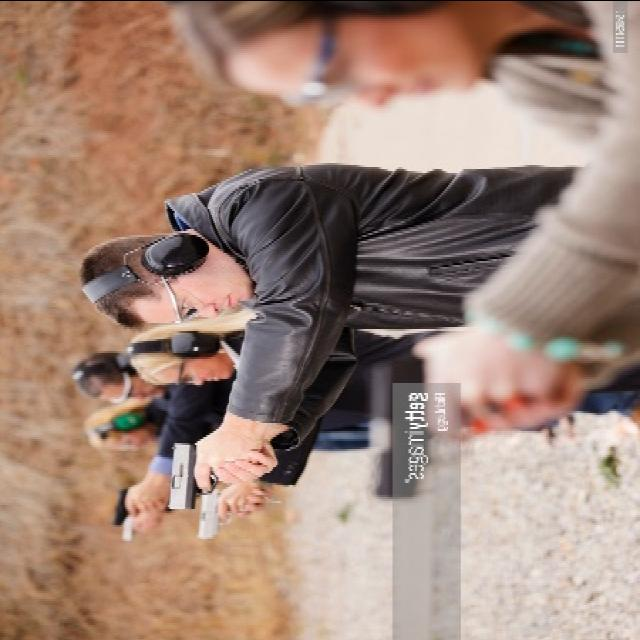handgun: (160, 433, 200, 513)
